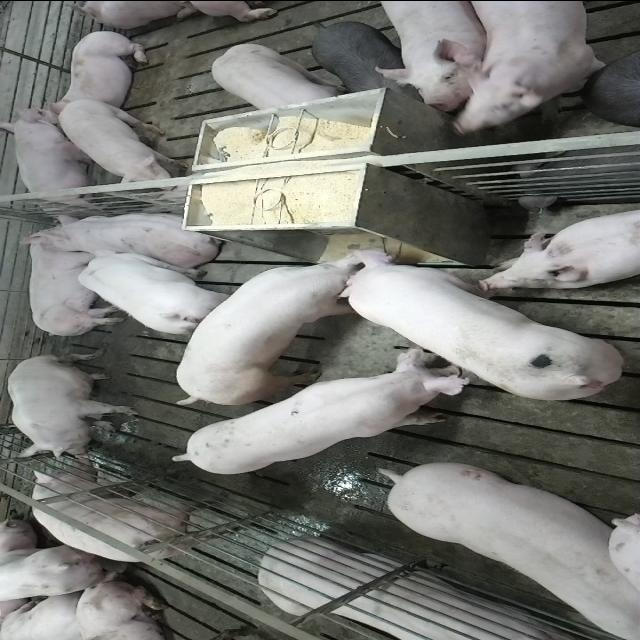Feeding: (338, 246, 626, 402)
Lateral_lying: (16, 224, 130, 338)
Sitting: (7, 354, 141, 461)
Standing: (375, 456, 635, 634), (167, 352, 473, 477), (176, 252, 392, 408), (446, 2, 612, 137), (29, 458, 237, 562), (73, 250, 235, 335), (370, 0, 489, 106), (61, 96, 190, 184), (210, 42, 344, 112), (309, 20, 407, 96), (587, 36, 640, 127)
Sternal_lying: (260, 540, 595, 640), (482, 207, 640, 289), (48, 27, 154, 117)
